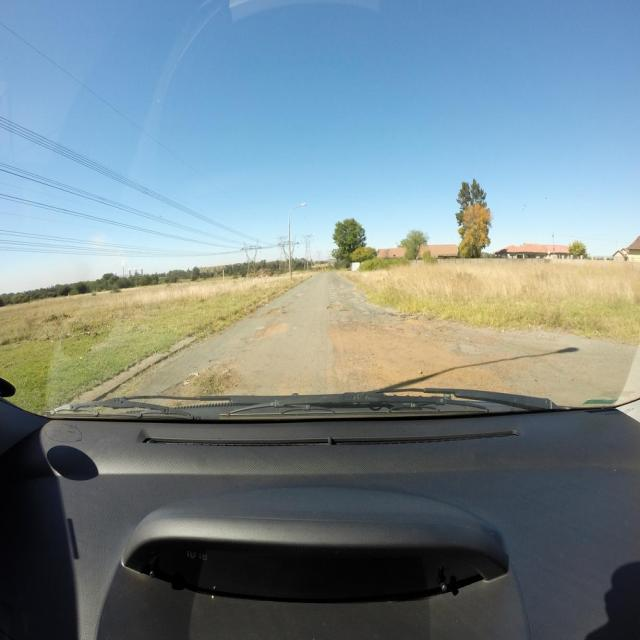Pothole: (326, 304, 354, 312), (263, 309, 283, 318), (249, 315, 262, 318)
